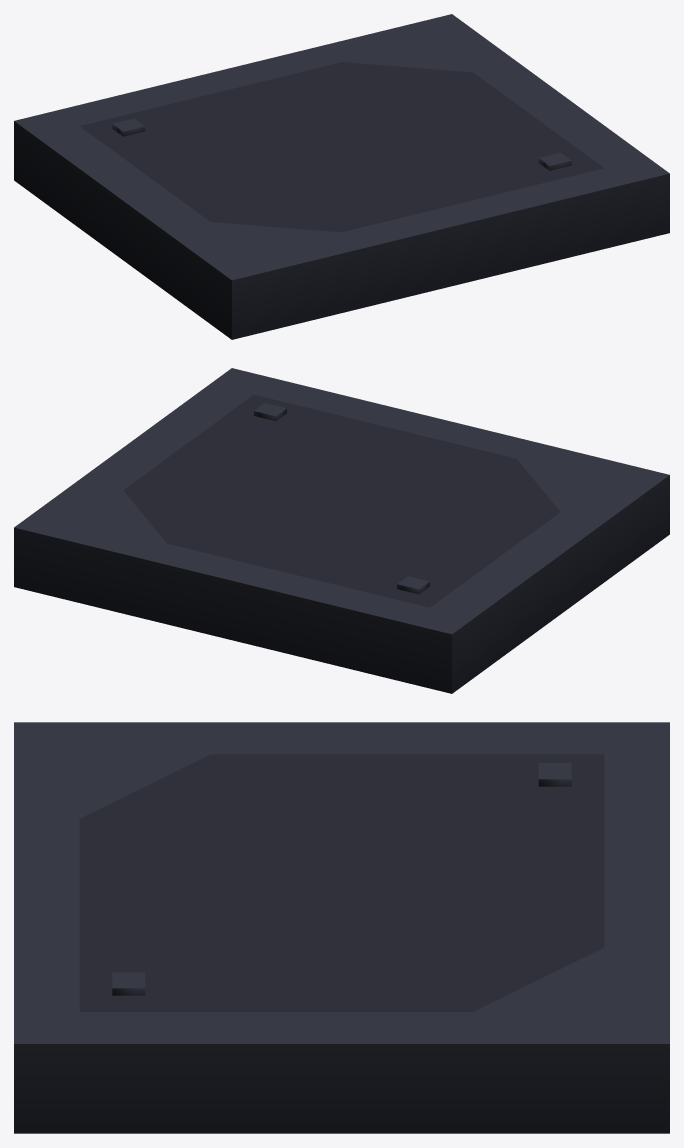
Rendered from platform1.glb.
3 renders of one model, top to bottom at view 1: azimuth 30°, elevation 25°; view 2: azimuth 150°, elevation 25°; view 3: azimuth 270°, elevation 25°, orthographic. The views are drawn at different scales.
Parts seen in each view (by area): view 1: mergedBlocks(Clone); view 2: mergedBlocks(Clone); view 3: mergedBlocks(Clone).
Part boxes in pixels (box(x1,y1,x2,y2)): mergedBlocks(Clone): box(14, 14, 669, 339); mergedBlocks(Clone): box(14, 368, 669, 693); mergedBlocks(Clone): box(14, 722, 669, 1133).
Size of the model in its own units: 52.2 by 7.35 by 44.98.
Materials: 1 (1 with a texture image).
